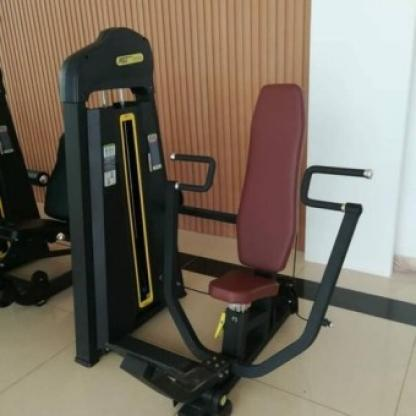Chest Press machine: (33, 15, 377, 416)
